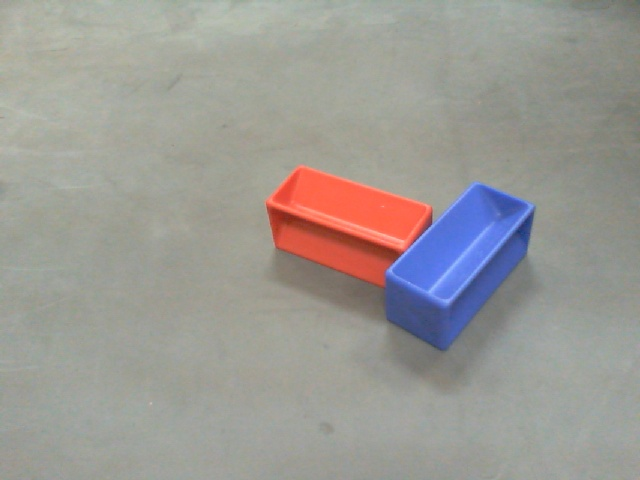BlueSample: (376, 180, 537, 351)
RedSample: (266, 162, 434, 287)
